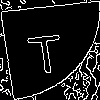T: (25, 25, 66, 75)
